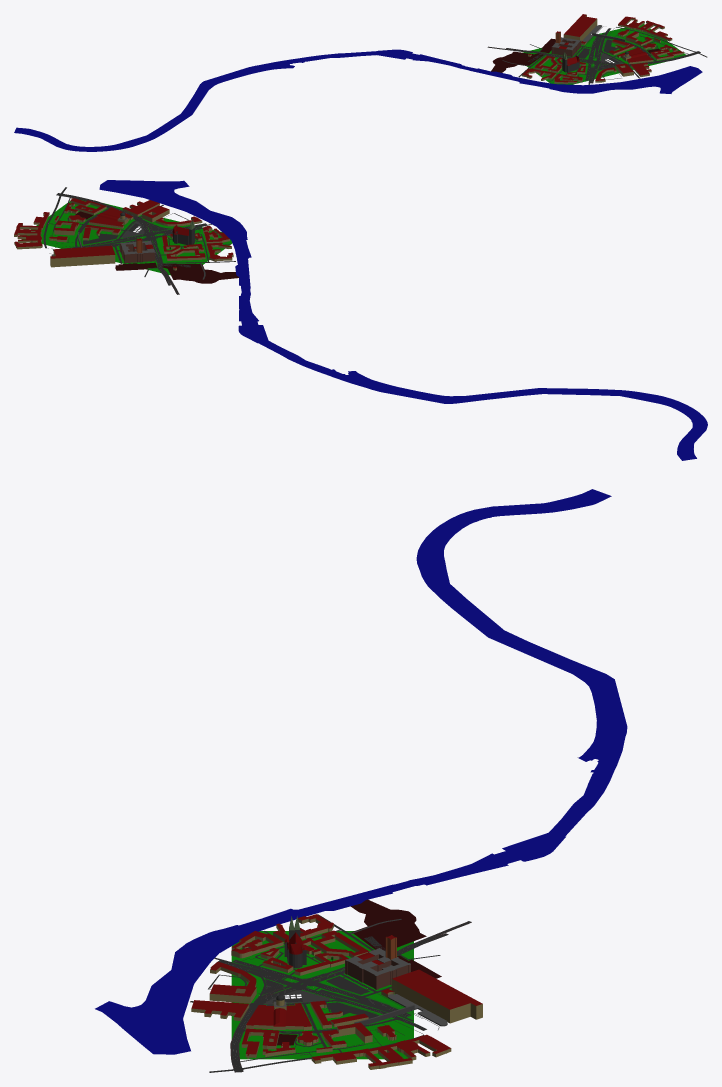
The model's file is map.obj.
The picture shows the model from 3 angles, top to bottom: view 1: azimuth 30°, elevation 25°; view 2: azimuth 150°, elevation 25°; view 3: azimuth 270°, elevation 25°; orthographic projection. The views are drawn at different scales.
Visible parts, largest first — view 1: Water273, Water262, SurfaceArea309, SurfaceArea307, object 325, Building RathausPassagen, Building Rotes Rathaus, Building Landgericht Berlin / Amtsgericht Mitte, Building Berliner Wasserbetriebe, Building Altes Stadthaus, Building Nikolaikirche; view 2: Water273, Water262, SurfaceArea309, object 325, Building RathausPassagen, SurfaceArea307, Building Rotes Rathaus, Building Landgericht Berlin / Amtsgericht Mitte, Building Berliner Wasserbetriebe, Building Altes Stadthaus; view 3: Water273, Water262, SurfaceArea309, Building RathausPassagen, SurfaceArea307, object 325, Building Rotes Rathaus, Building Landgericht Berlin / Amtsgericht Mitte, Building Berliner Wasserbetriebe, Building Altes Stadthaus.
Boxes of the visible parts, box(x1,y1,x2,y2) form: Water273: box(14, 49, 560, 151); Water262: box(557, 66, 702, 93); SurfaceArea309: box(585, 28, 685, 69); SurfaceArea307: box(526, 45, 619, 84); object 325: box(491, 38, 555, 72); Building RathausPassagen: box(563, 14, 597, 41); Building Rotes Rathaus: box(551, 31, 581, 56); Building Landgericht Berlin / Amtsgericht Mitte: box(618, 16, 664, 34); Building Berliner Wasserbetriebe: box(615, 62, 651, 76); Building Altes Stadthaus: box(617, 47, 653, 64); Building Nikolaikirche: box(562, 52, 579, 72); Water273: box(229, 235, 707, 460); Water262: box(99, 180, 246, 237); SurfaceArea309: box(31, 200, 150, 249); object 325: box(115, 262, 239, 283); Building RathausPassagen: box(50, 245, 115, 267); SurfaceArea307: box(113, 217, 232, 264); Building Rotes Rathaus: box(120, 238, 155, 263); Building Landgericht Berlin / Amtsgericht Mitte: box(14, 223, 43, 249); Building Berliner Wasserbetriebe: box(122, 200, 169, 222); Building Altes Stadthaus: box(89, 207, 133, 228); Water273: box(224, 489, 627, 937); Water262: box(95, 929, 243, 1054); SurfaceArea309: box(231, 995, 383, 1059); Building RathausPassagen: box(391, 969, 482, 1023); SurfaceArea307: box(231, 931, 383, 995); object 325: box(351, 899, 441, 978); Building Rotes Rathaus: box(345, 935, 410, 989); Building Landgericht Berlin / Amtsgericht Mitte: box(357, 1034, 451, 1069); Building Berliner Wasserbetriebe: box(191, 984, 256, 1021); Building Altes Stadthaus: box(246, 995, 311, 1030).
Bounding box in the file's own units: 2731 × 94 × 1053.
